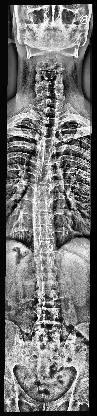Vertebrae: (34, 288, 62, 306), (34, 308, 62, 324), (32, 256, 58, 272), (34, 272, 58, 288), (32, 240, 56, 254), (32, 226, 54, 240), (32, 198, 53, 212), (32, 211, 53, 225), (32, 185, 54, 197), (34, 170, 54, 180), (41, 108, 59, 118), (41, 118, 59, 128), (40, 137, 58, 147), (37, 147, 54, 157), (36, 158, 52, 168), (41, 99, 58, 108), (41, 127, 57, 136)
